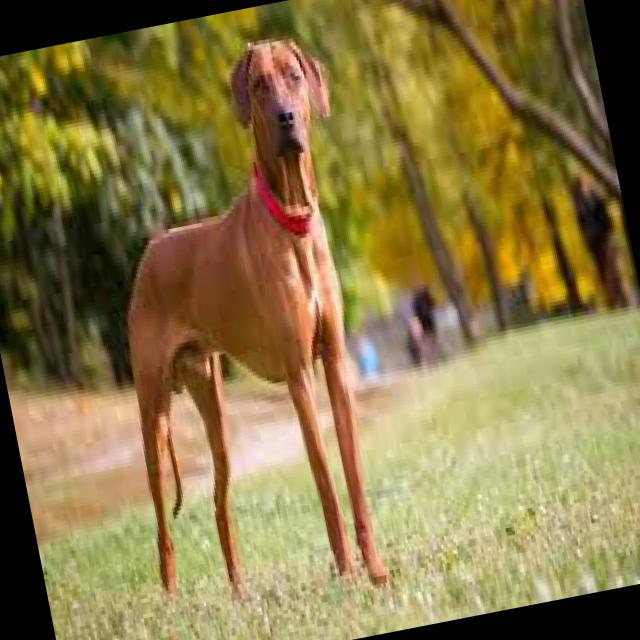DOG: (62, 26, 423, 625)
